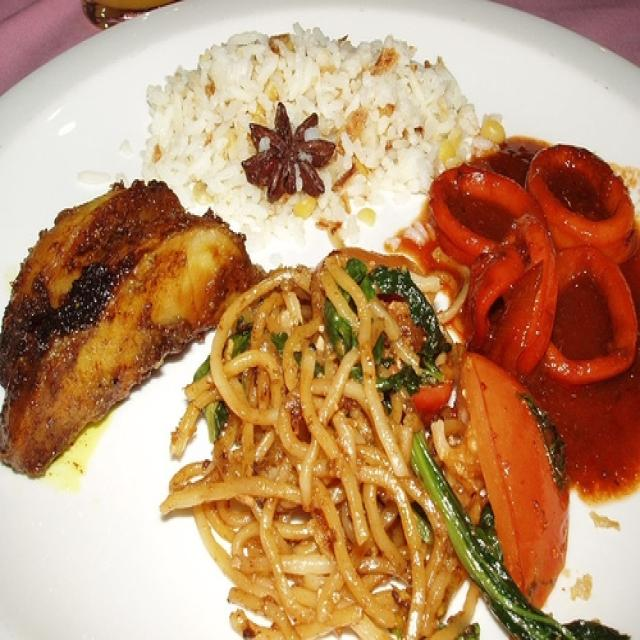面条主食: (5, 10, 616, 633)
